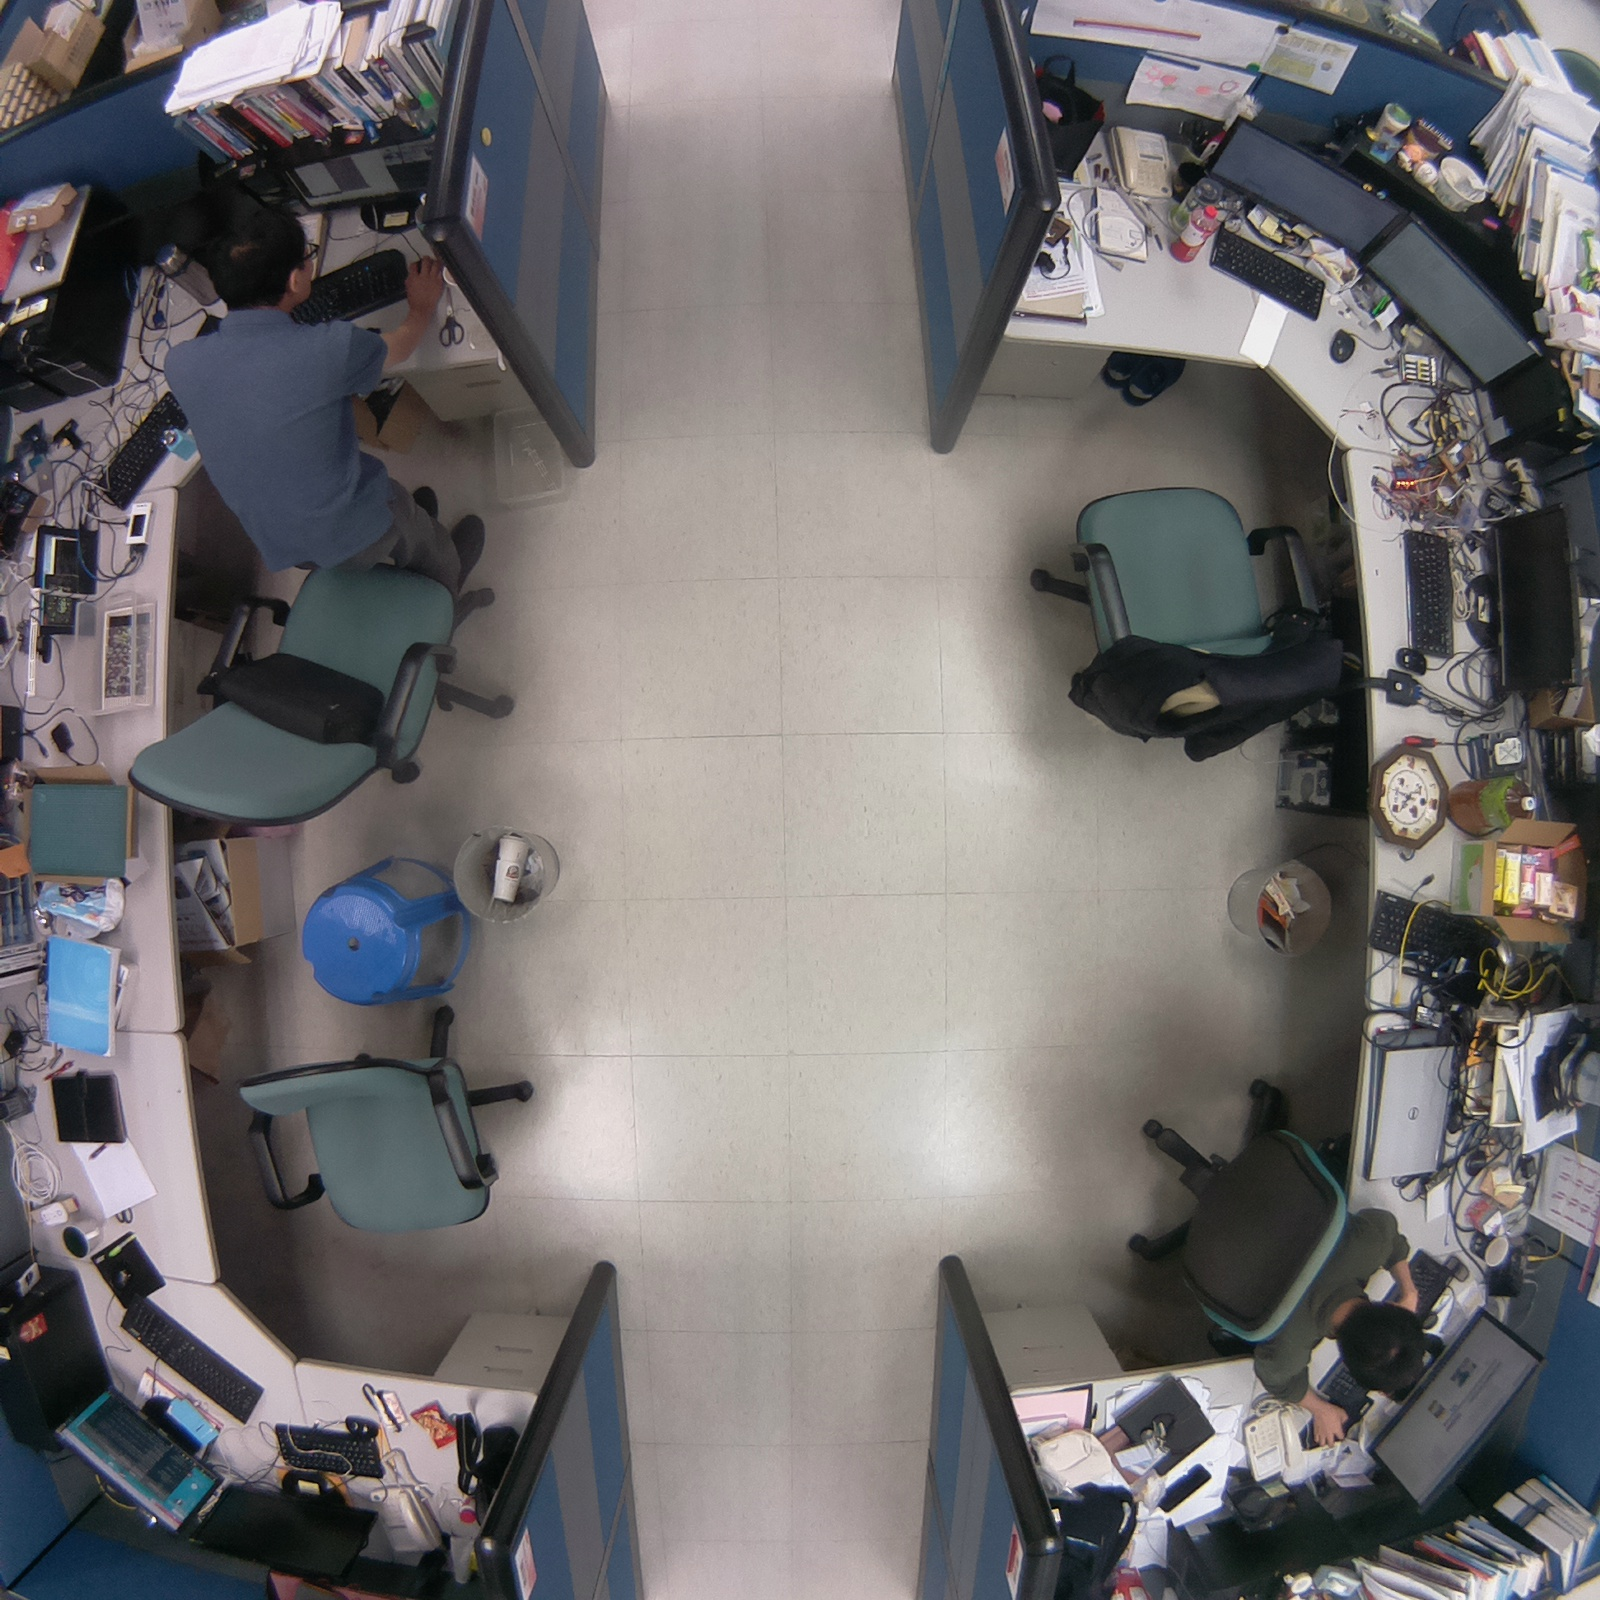chair: (117, 550, 514, 842), (1004, 460, 1360, 778), (227, 981, 550, 1250)
head: (203, 192, 325, 312), (1333, 1294, 1437, 1406)
sitting: (1099, 1063, 1450, 1450)
standing: (160, 183, 496, 604)
